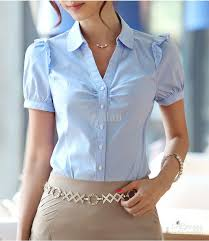F_shirt: (12, 17, 190, 188)
S_W_pants: (28, 170, 165, 241)
